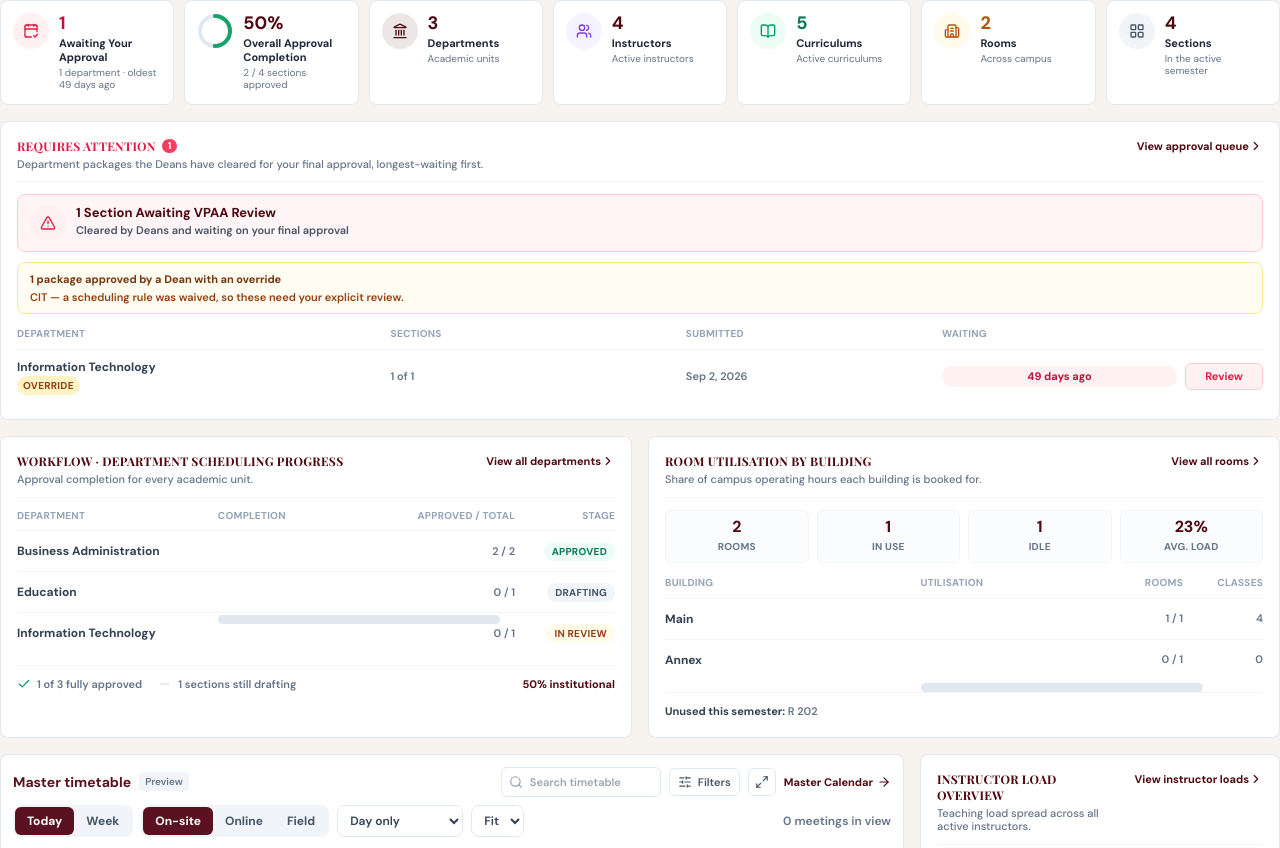
VpaaDashboardPage › opens shared class details in fullscreen and leaves fullscreen open when the details close
Click the button named "Full window view" at {"x": 762, "y": 782}, box [748,768,776,796]
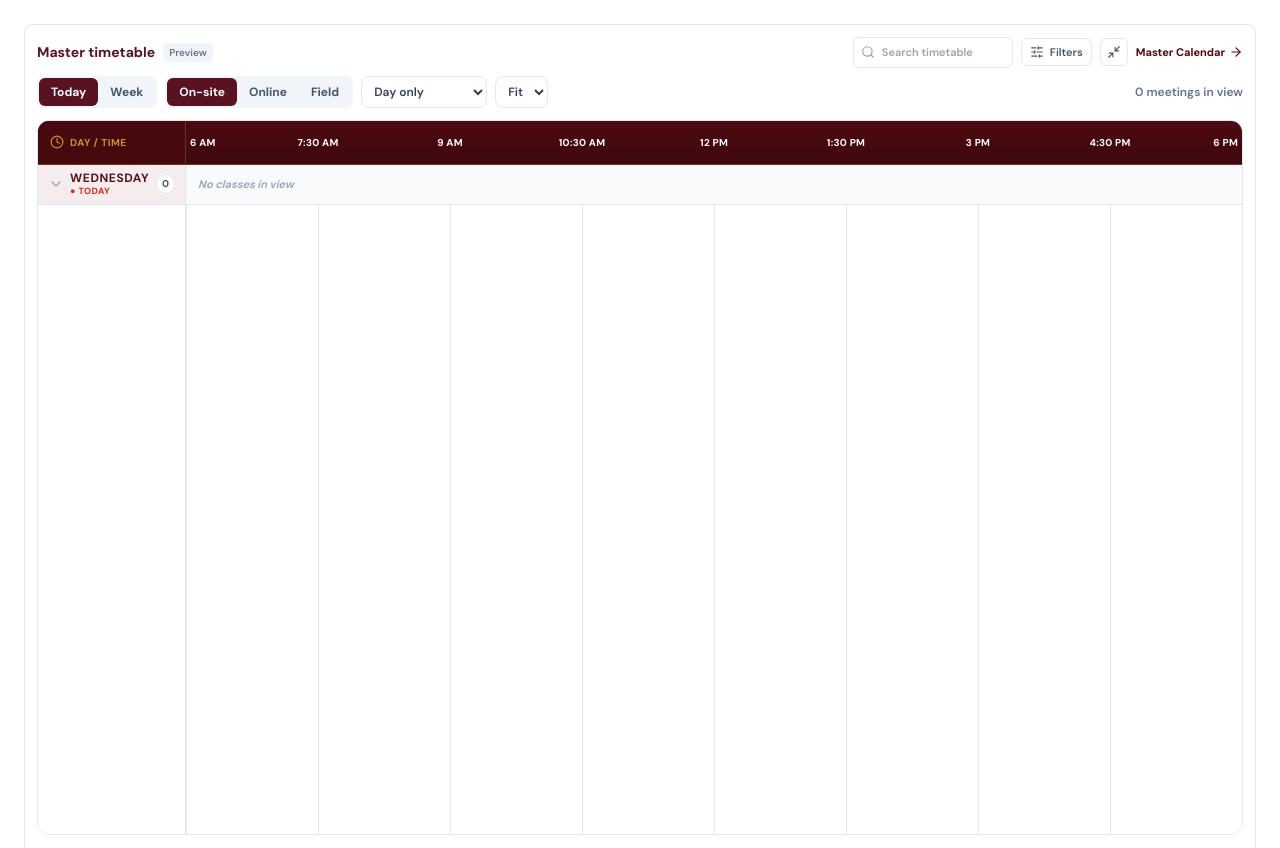
Click the button "Week" at {"x": 127, "y": 92}, box [98,78,155,106]
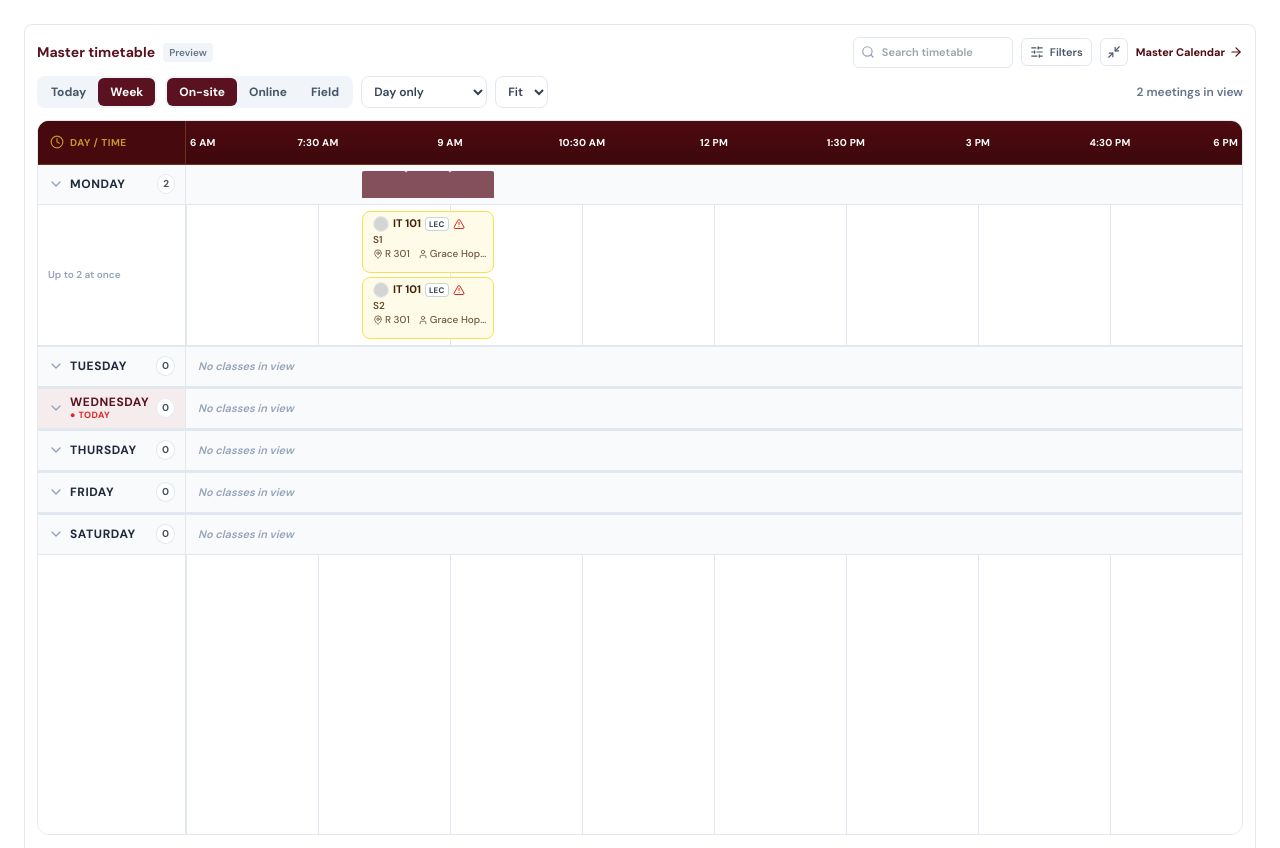
Click the button with aria-label "IT 101 lecture" at {"x": 428, "y": 242}, box [362,210,494,272]
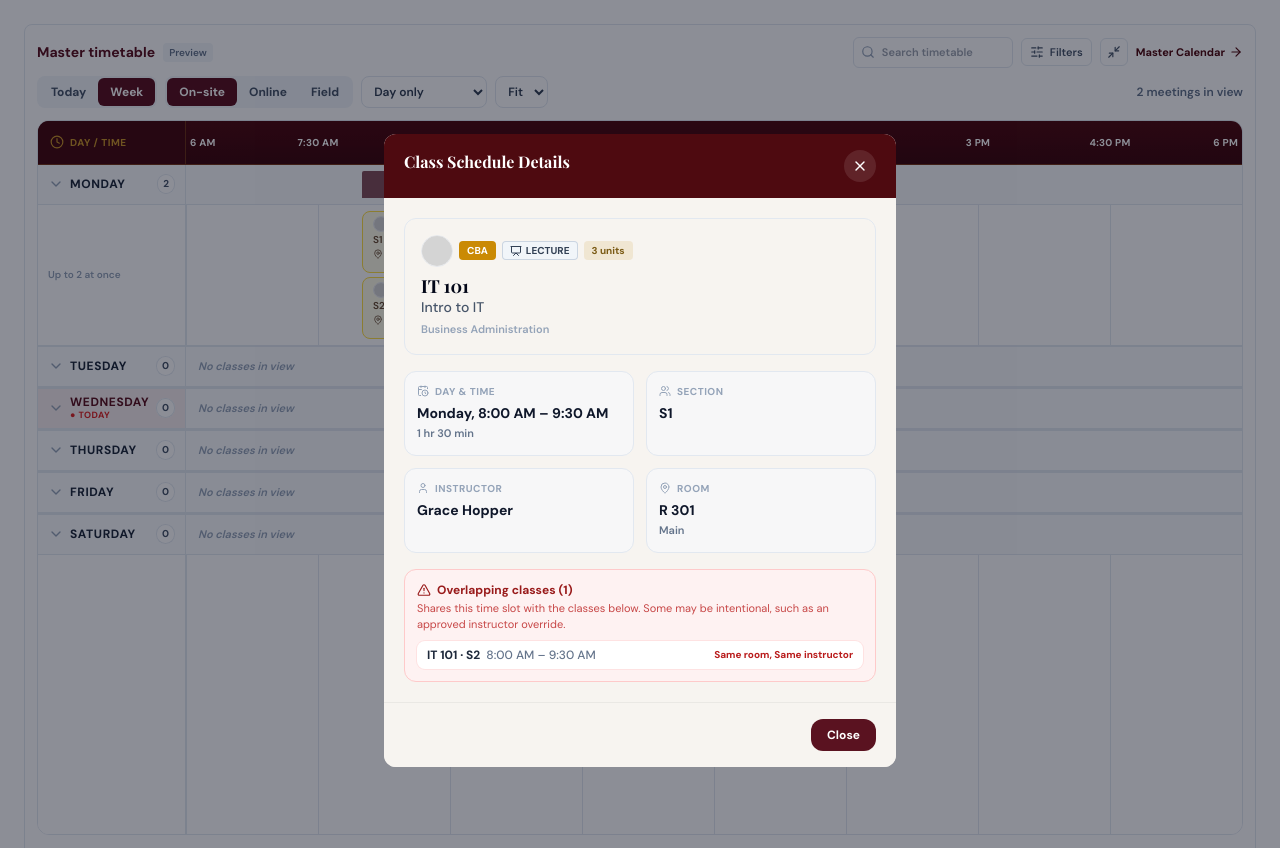
expect the text "Intro to IT" is shown: met, box [421,298,484,316]
expect the heading "Overlapping classes (1)" is shown: met, box [417,582,572,598]
Press Escape
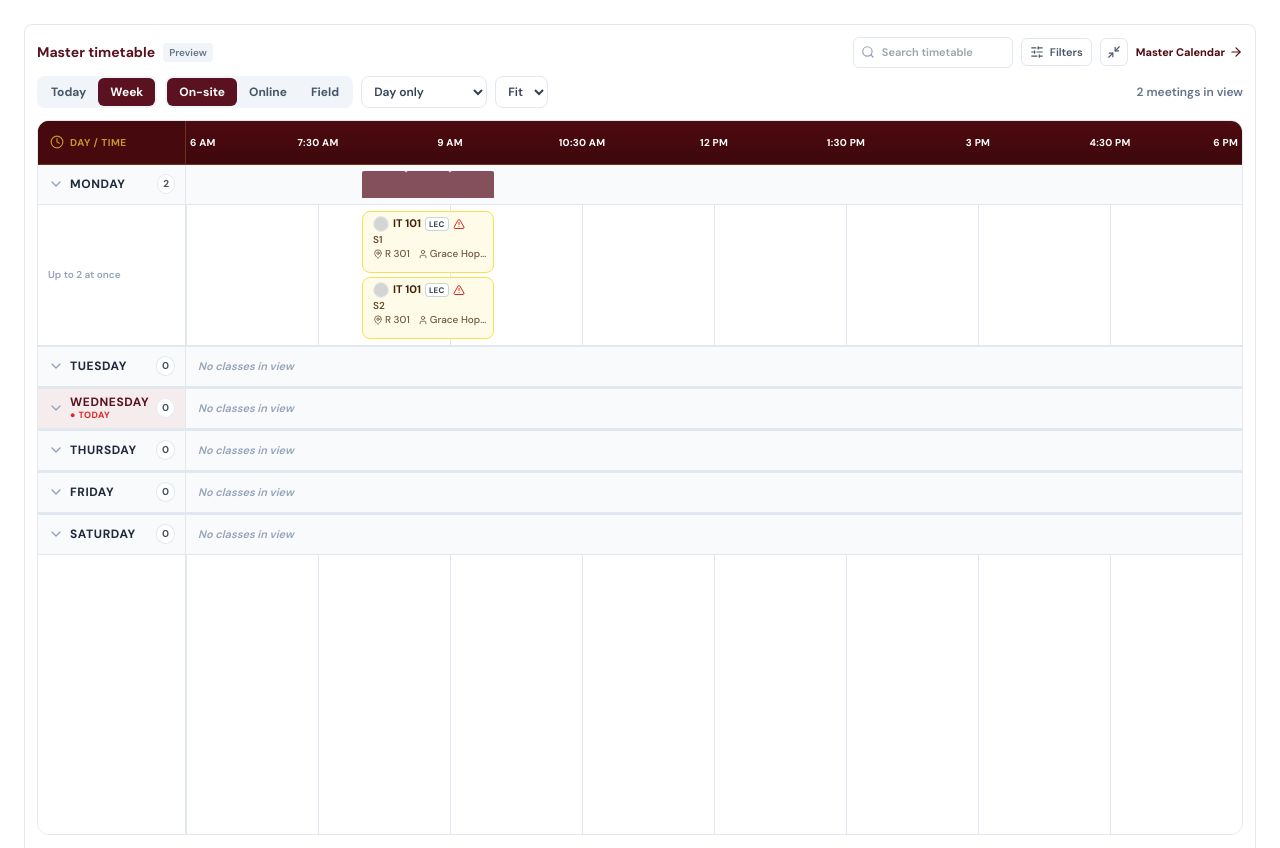
expect the button named "Exit full window" is shown: met, box [1100,38,1128,66]
expect the dialog is gone: met
